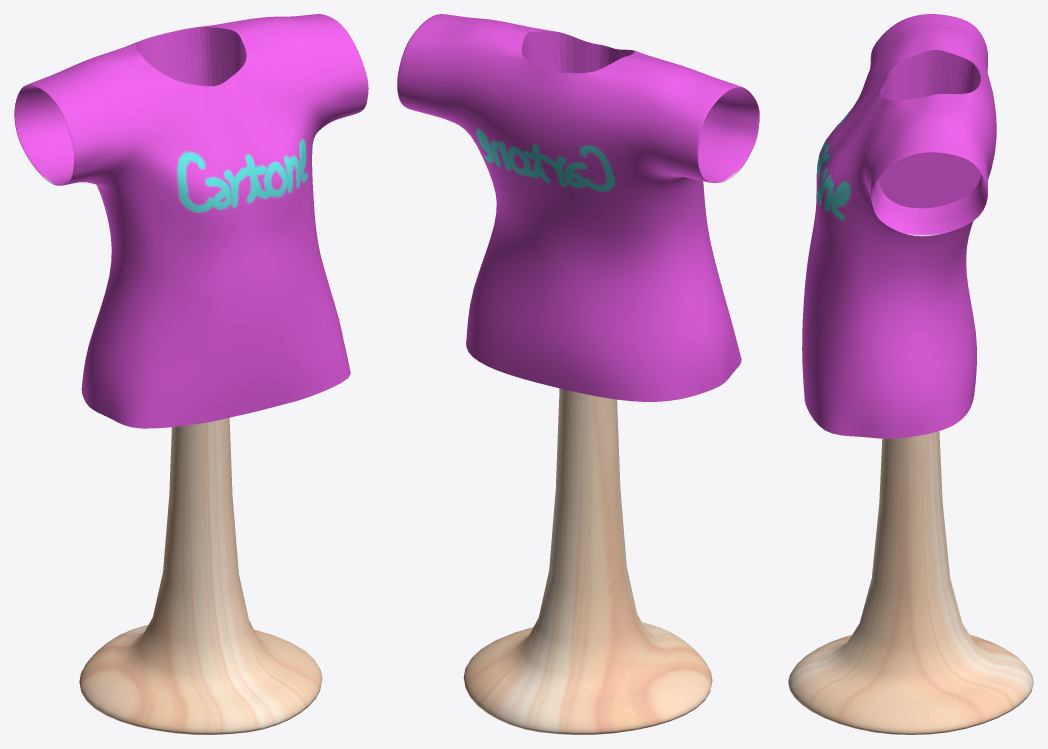
Rendered from Manequin_Pink.fbx.
The picture shows the model from 3 angles, left to right: view 1: azimuth 30°, elevation 25°; view 2: azimuth 150°, elevation 25°; view 3: azimuth 270°, elevation 25°; orthographic projection. The views are drawn at different scales.
Parts seen in each view (by area): view 1: Manequin:Shirt, Manequin:Cylinder; view 2: Manequin:Shirt, Manequin:Cylinder; view 3: Manequin:Shirt, Manequin:Cylinder.
Part boxes in pixels (x1,y1,x2,y2): Manequin:Shirt: (14, 14, 368, 428); Manequin:Cylinder: (79, 417, 322, 734); Manequin:Shirt: (397, 14, 759, 401); Manequin:Cylinder: (463, 388, 712, 734); Manequin:Shirt: (802, 14, 996, 438); Manequin:Cylinder: (788, 431, 1033, 734).
Size of the model in its own units: 41.23 by 85.16 by 30.67.
2 materials, 2 textured.
